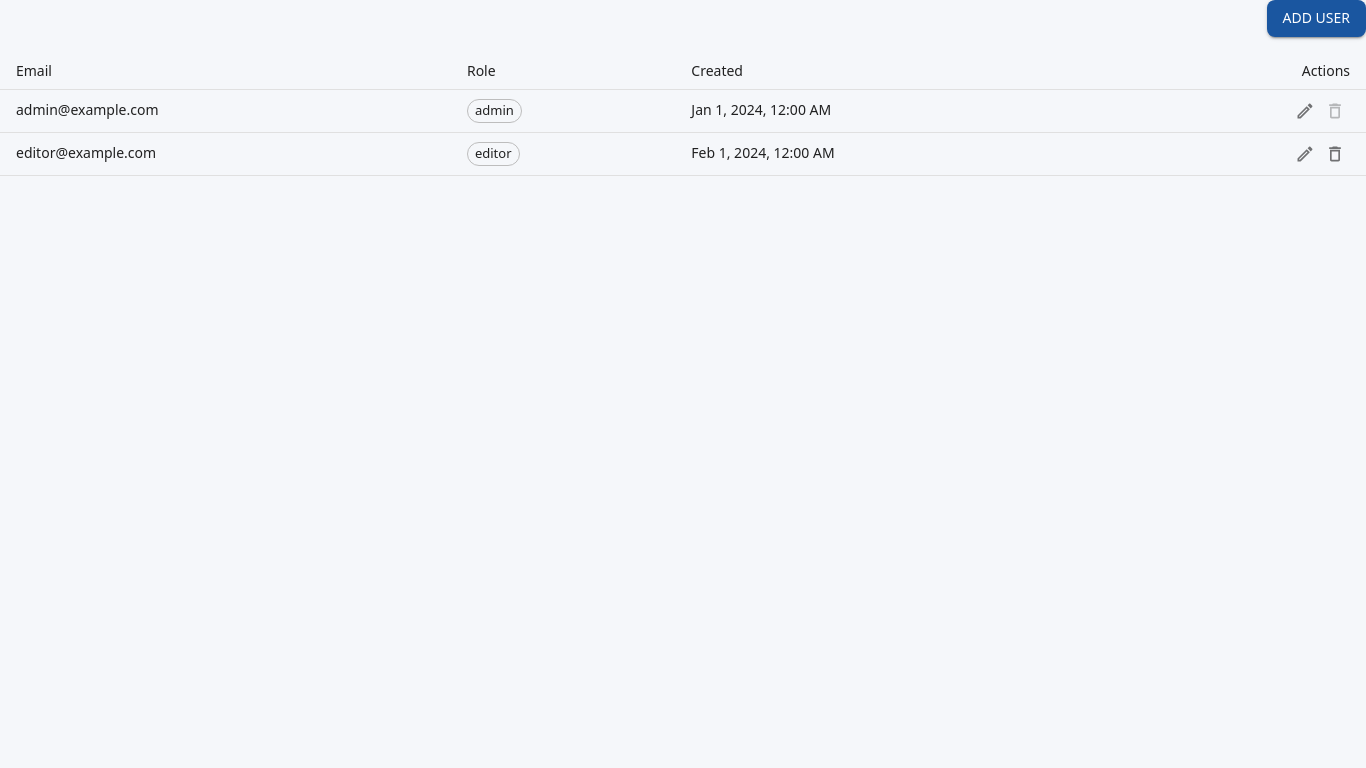
UsersList › opens the create dialog
The image size is (1366, 768).
Click the button "Add user" at (1316, 18), box [1266, 0, 1365, 36]
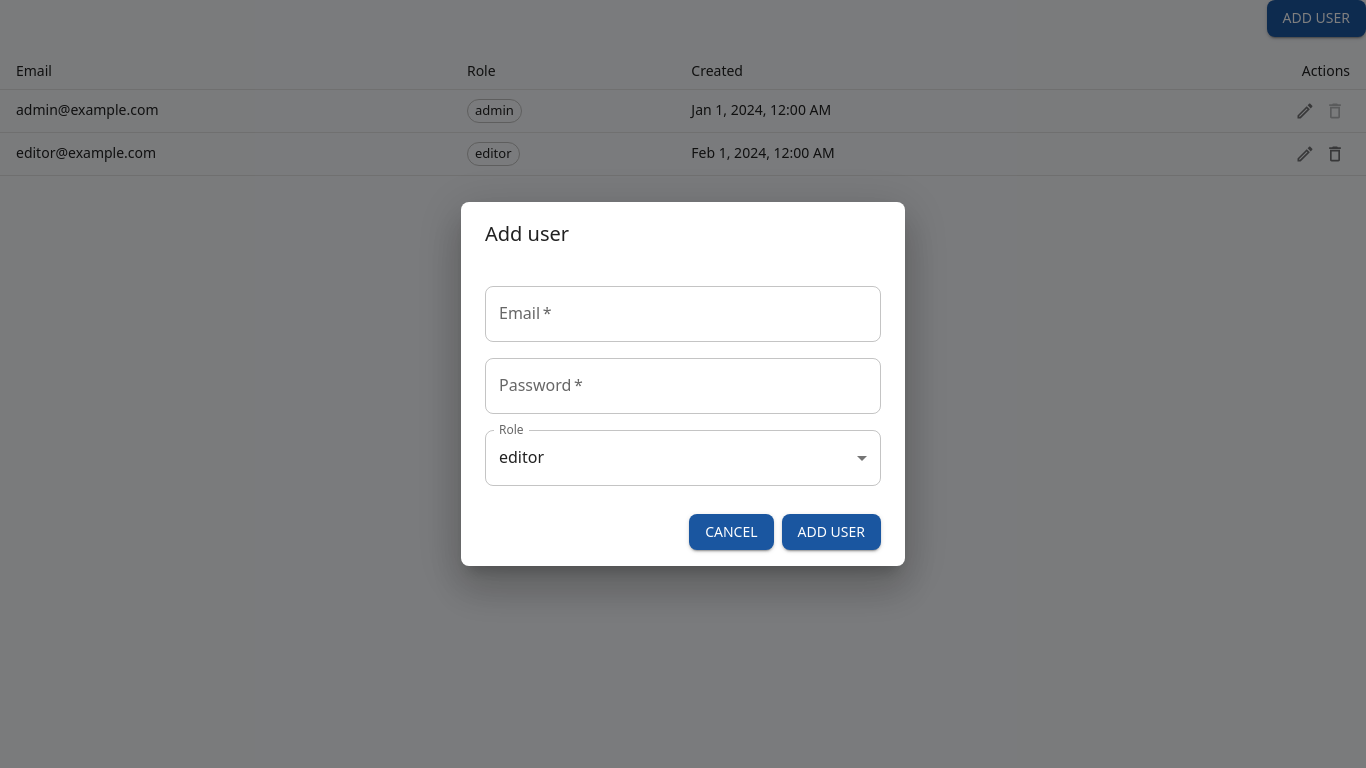
Check: the heading "Add user" is shown, box [485, 220, 569, 247]
Check: the field labelled "Email *" is shown, box [485, 286, 881, 342]
Check: the dropdown is shown, box [499, 446, 544, 468]
